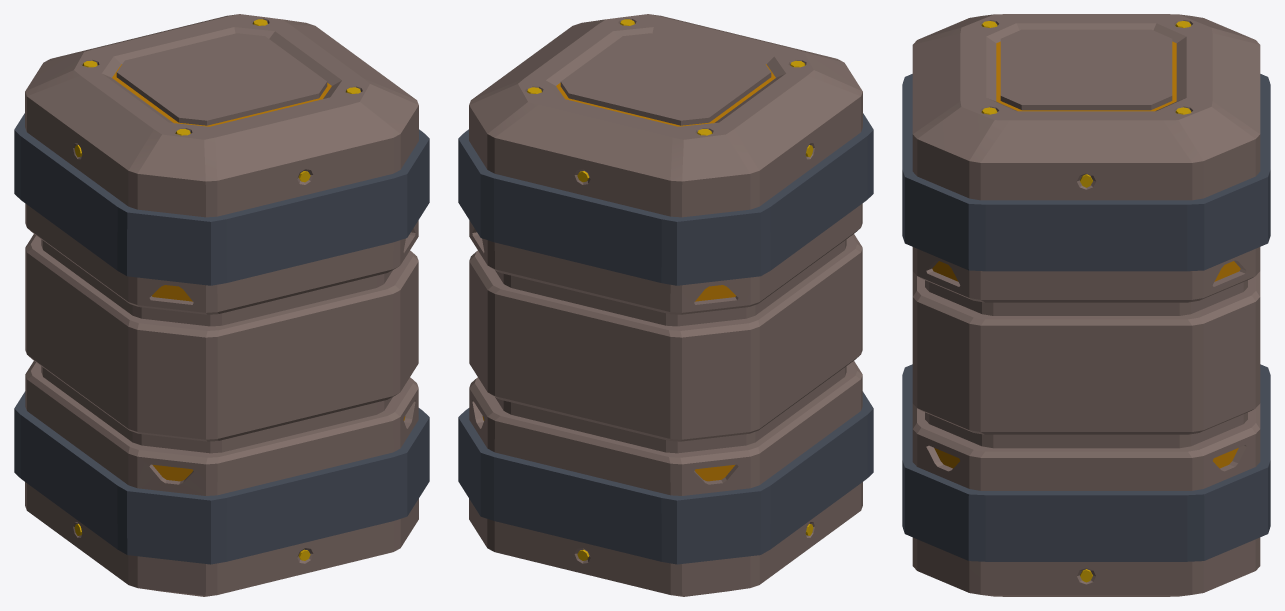
Rendered from SM_Props_Box_10.fbx.
3 views of the same model, side by side, from view 1: azimuth 30°, elevation 25°; view 2: azimuth 150°, elevation 25°; view 3: azimuth 270°, elevation 25° (orthographic). The views are drawn at different scales.
Parts seen in each view (by area): view 1: SM_Props_Box_10; view 2: SM_Props_Box_10; view 3: SM_Props_Box_10.
Boxes of the visible parts, x1,y1,x2,y2 form: SM_Props_Box_10: (14, 14, 429, 596); SM_Props_Box_10: (458, 14, 873, 596); SM_Props_Box_10: (902, 14, 1270, 596).
Bounding box in the file's own units: 0.4761 × 0.6801 × 0.4761.
